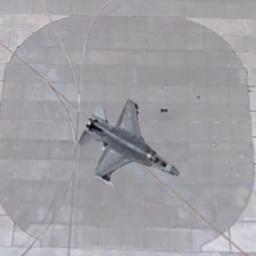Airplane: (78, 97, 179, 186)
